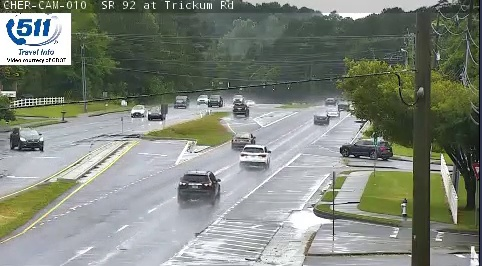car: (178, 170, 219, 200), (239, 145, 269, 166), (232, 132, 256, 149), (232, 102, 249, 115), (313, 112, 329, 124)
